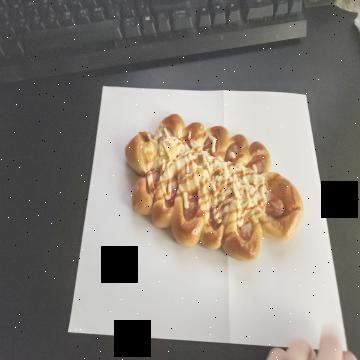pizza_bread: (124, 112, 303, 264)
